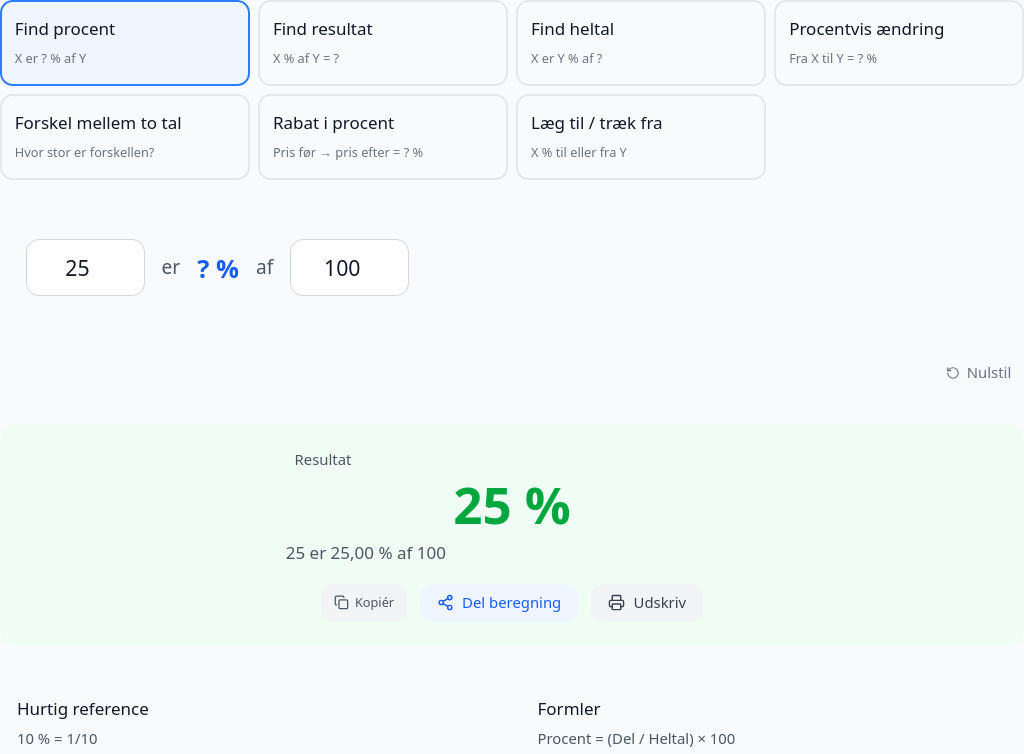
Scenario: ProcentBeregner › et talpar der middelværdien er 0 viser en brugbar besked
Click the radio button labelled "Forskel mellem to tal Hvor stor er forskellen?" at (125, 137), box [0,94,250,180]
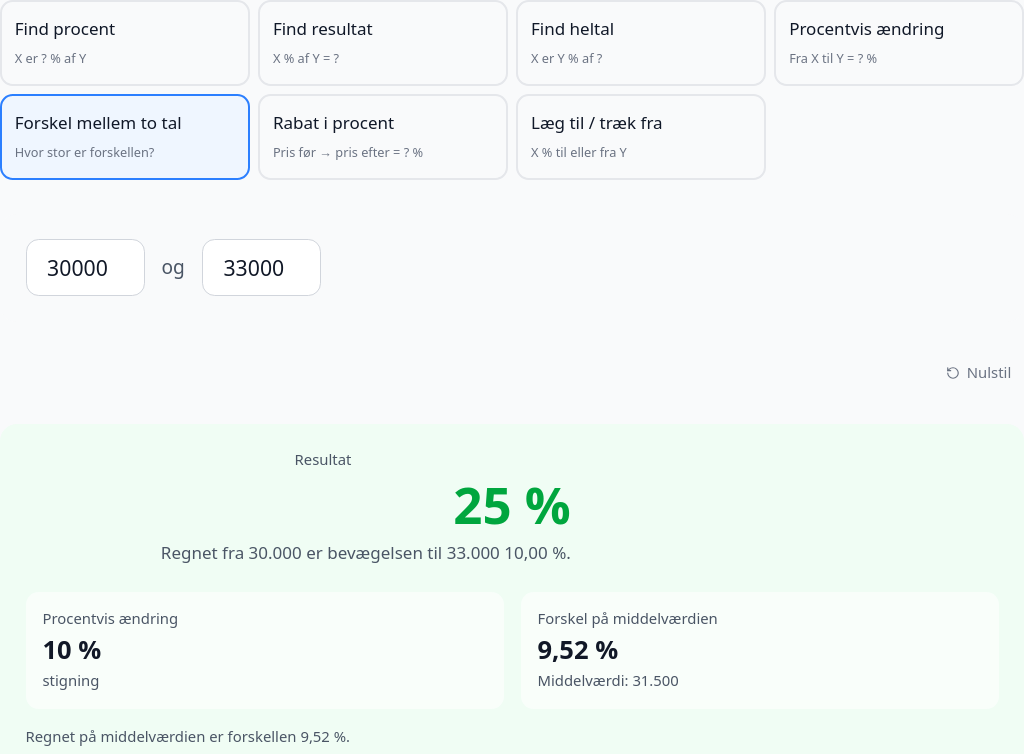
Replace the text in the number field named "Første tal" with "-100" at (85, 268), box [26,239,144,296]
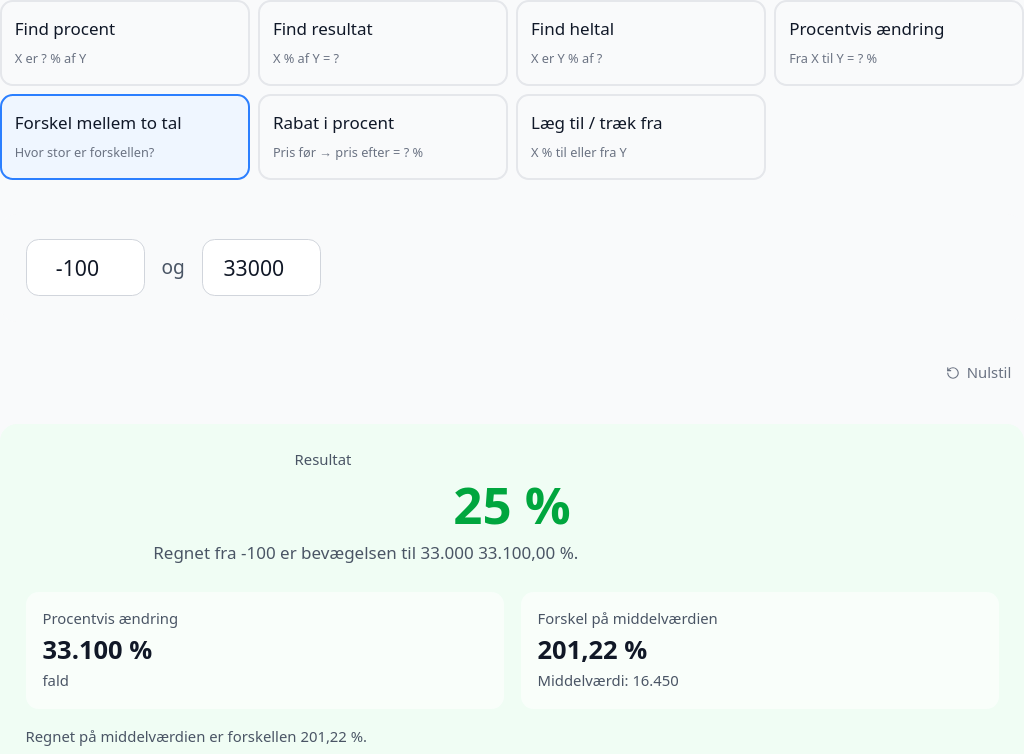
Replace the text in the number field named "Andet tal" with "100" at (261, 268), box [202,239,321,296]
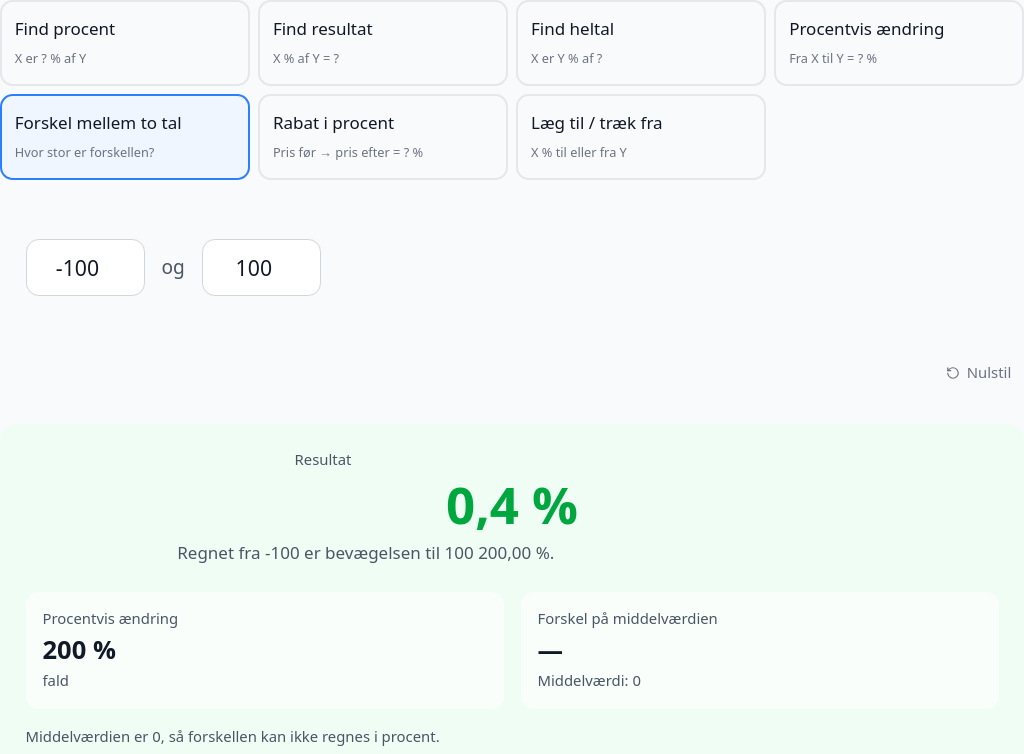
Expected: the text "Middelværdien er 0" is shown, [26,726,440,746]
Expected: the text "—" is shown, [538,632,563,666]
